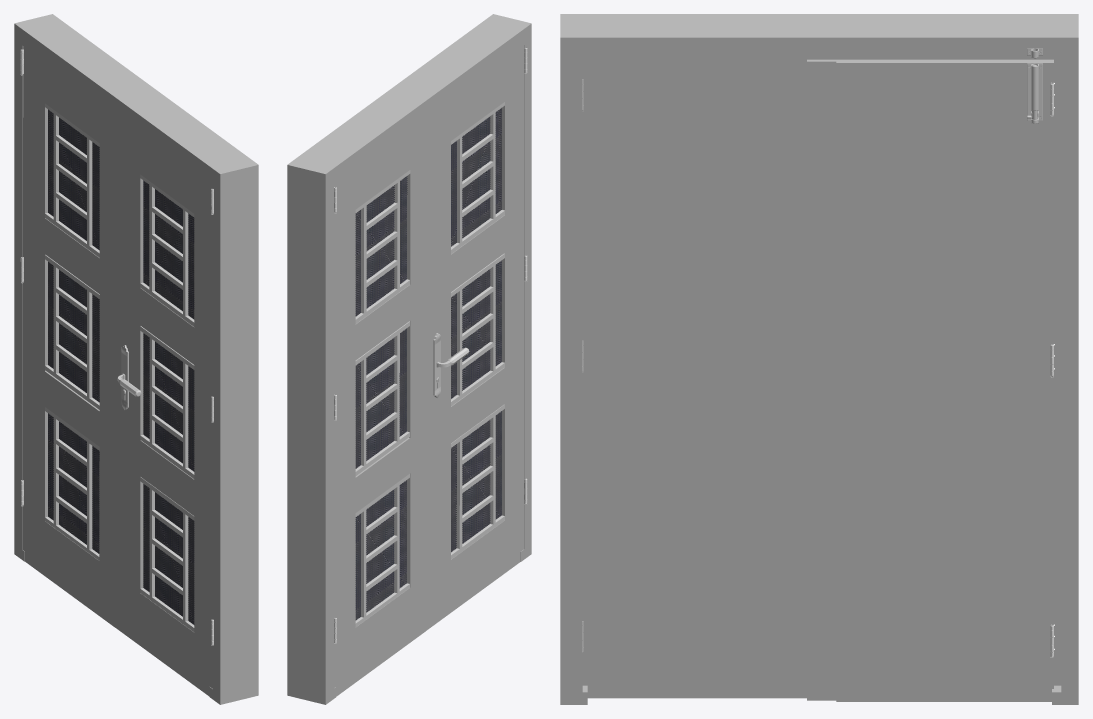
Rendered from double_door_symphony.fbx.
3 views of the same model, side by side, from view 1: azimuth 30°, elevation 25°; view 2: azimuth 150°, elevation 25°; view 3: azimuth 270°, elevation 25° (orthographic). The views are drawn at different scales.
Visible parts, largest first — view 1: frame, door_front.004, door_front1, polySurface58, polySurface57, polySurface54, polySurface20, pCube11.007; view 2: frame, door_front.004, door_front1, polySurface58, polySurface57, polySurface54, polySurface20, pCube11.007; view 3: inner_door1, inner_door2, frame, polySurface62.
Boxes of the visible parts, box(x1,y1,x2,y2) form: frame: box(14, 14, 258, 704); door_front.004: box(115, 113, 212, 695); door_front1: box(23, 46, 114, 627); polySurface58: box(48, 109, 99, 553); polySurface57: box(143, 180, 194, 624); polySurface54: box(140, 174, 194, 631); polySurface20: box(45, 103, 99, 560); pCube11.007: box(121, 345, 128, 410); frame: box(287, 14, 531, 704); door_front.004: box(425, 45, 523, 630); door_front1: box(334, 117, 425, 696); polySurface58: box(355, 176, 407, 620); polySurface57: box(451, 108, 501, 552); polySurface54: box(451, 102, 504, 559); polySurface20: box(355, 170, 410, 626); pCube11.007: box(433, 333, 440, 398); inner_door1: box(587, 59, 836, 700); inner_door2: box(836, 59, 1053, 701); frame: box(560, 14, 1078, 704); polySurface62: box(1027, 63, 1042, 123).
Size of the model in its own units: 27.04 by 252 by 177.
